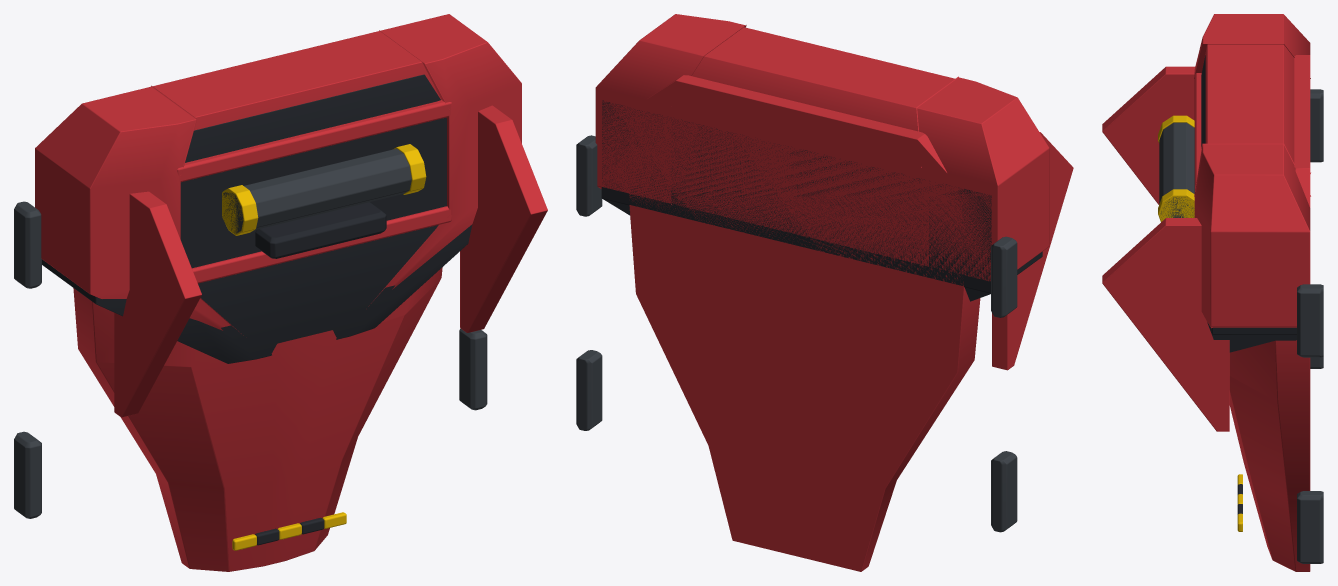
The model's file is BodyBack_Set02_Bastion.fbx.
The picture shows the model from 3 angles, left to right: view 1: azimuth 30°, elevation 25°; view 2: azimuth 150°, elevation 25°; view 3: azimuth 270°, elevation 25°; orthographic projection. The views are drawn at different scales.
Parts seen in each view (by area): view 1: BodyBack_Set02_Bastion; view 2: BodyBack_Set02_Bastion; view 3: BodyBack_Set02_Bastion.
Part boxes in pixels (<box>): BodyBack_Set02_Bastion: <box>14,14,547,571</box>; BodyBack_Set02_Bastion: <box>576,14,1073,571</box>; BodyBack_Set02_Bastion: <box>1102,14,1323,571</box>.
Size of the model in its own units: 1.07 by 1.1 by 0.4945.
